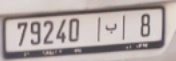0: (67, 16, 82, 44)
2: (42, 19, 55, 44)
4: (55, 17, 66, 44)
7: (15, 21, 27, 47)
8: (139, 13, 153, 38)
9: (29, 21, 41, 45)
b: (104, 19, 118, 36)
